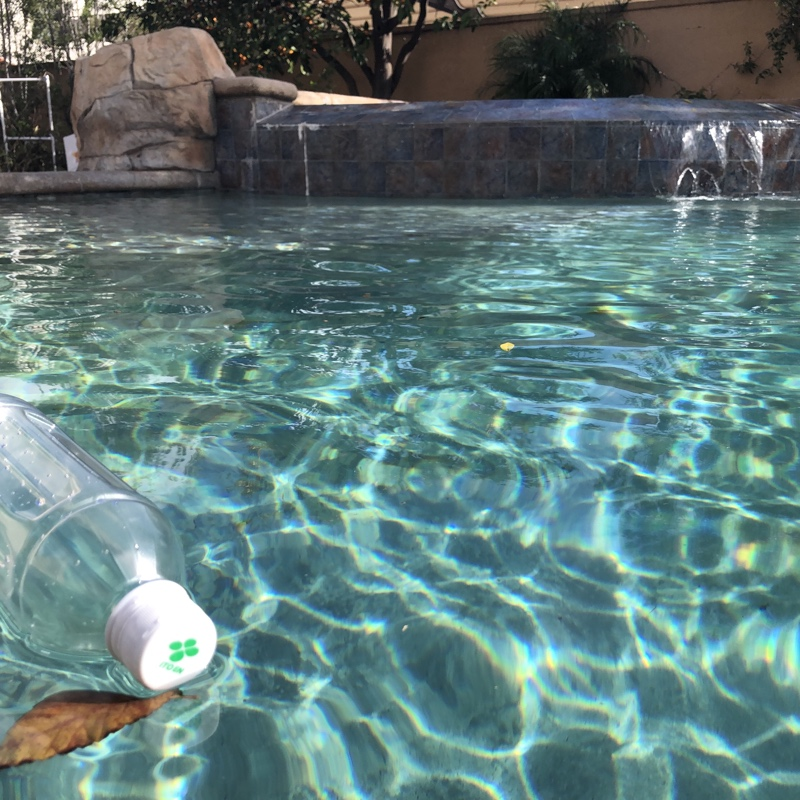Plastic Bottle: (1, 387, 222, 702)
